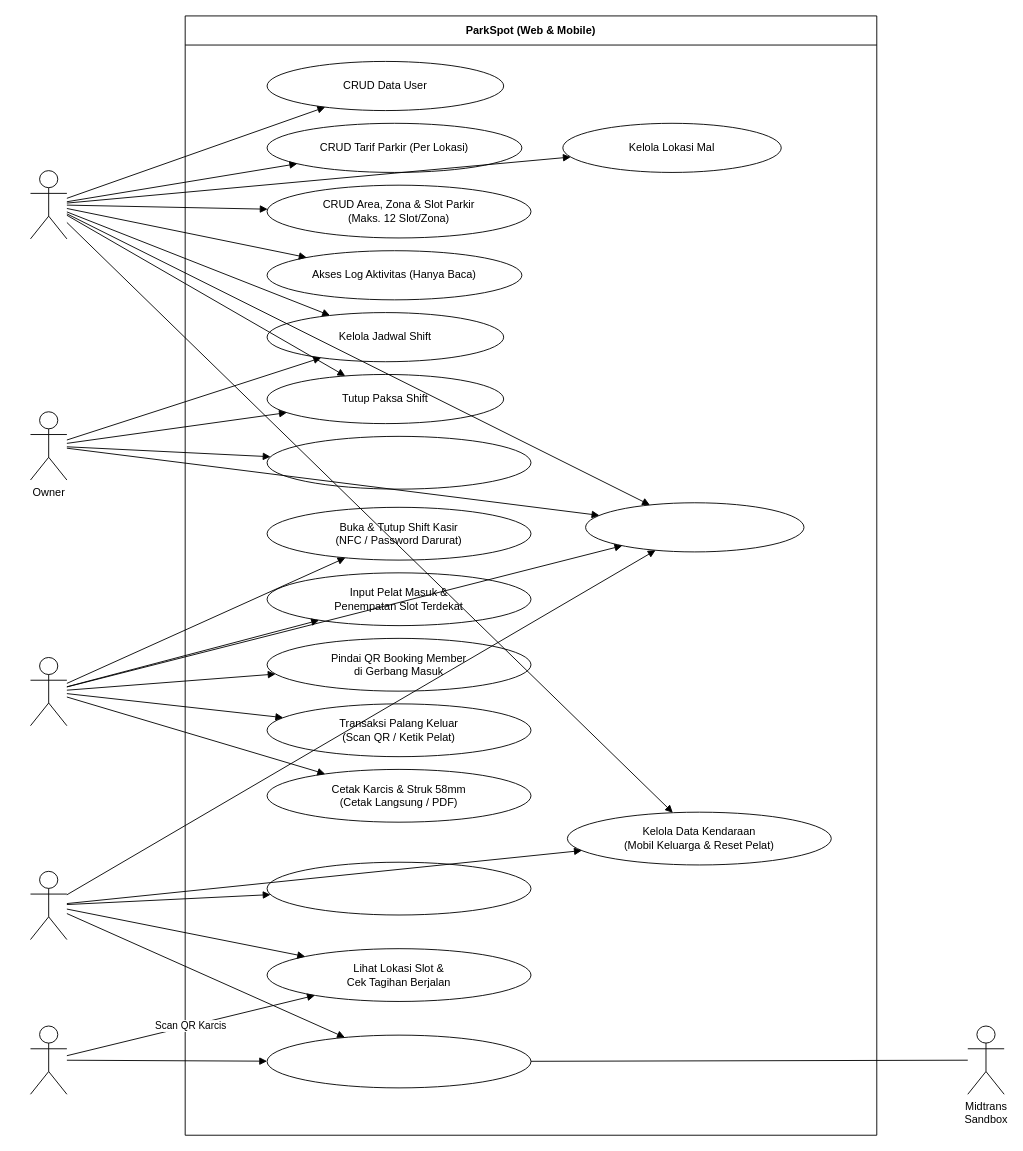
The diagram is 1023 pixels wide and 1151 high, and some of its shapes have lost their labels. Each missing label, with the centre of its shape:
Admin: the point at 48,204
Bayar Parkir Non-Tunai (QRIS): the point at 398,1061
Booking Slot Parkir (Pilih Mal, Jam & Durasi): the point at 398,888
Guest (Tanpa Login): the point at 48,1059
Login dan Logout: the point at 694,527
Member: the point at 48,905
Petugas: the point at 48,691
Rekap Transaksi, Audit Shift & Ekspor PDF / Excel: the point at 398,462
